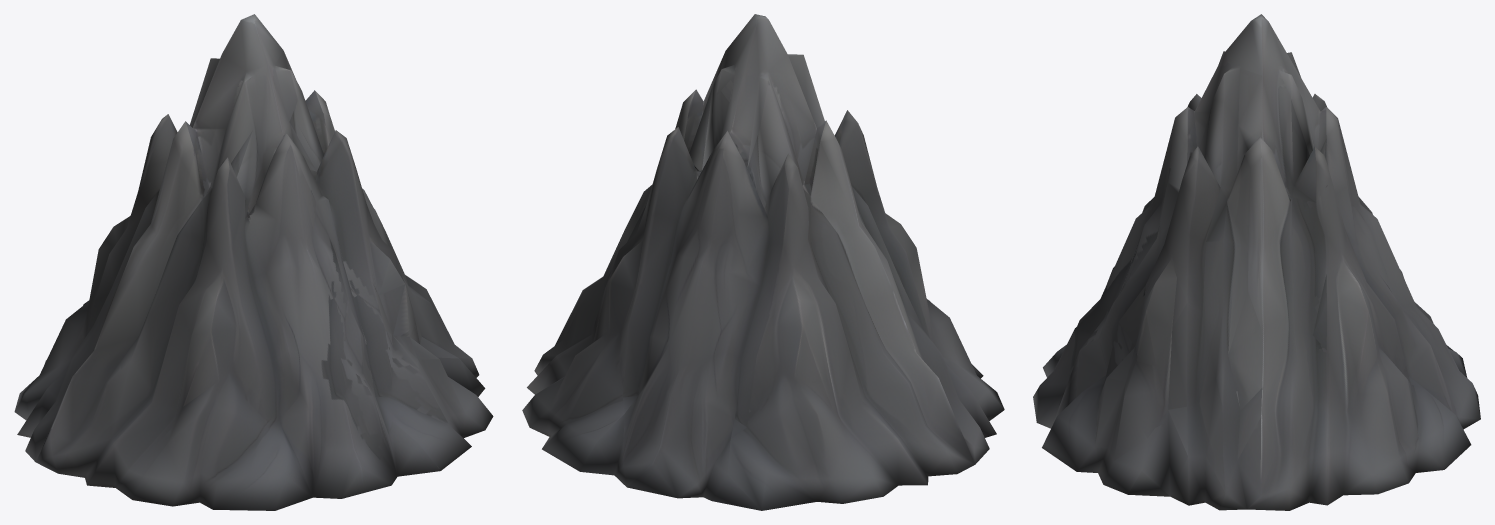
File: Montanha Cinza Super Leve.glb
3 renders of one model, left to right at view 1: azimuth 30°, elevation 25°; view 2: azimuth 150°, elevation 25°; view 3: azimuth 270°, elevation 25°, orthographic.
Parts seen in each view (by area): view 1: model; view 2: model; view 3: model.
Boxes of the visible parts, left/top/right/bottom form: model: left=14, top=14, right=493, bottom=510; model: left=522, top=14, right=1004, bottom=510; model: left=1033, top=14, right=1480, bottom=510.
Bounding box in the file's own units: 1.89 × 1.67 × 1.73.
1 material, 1 textured.
